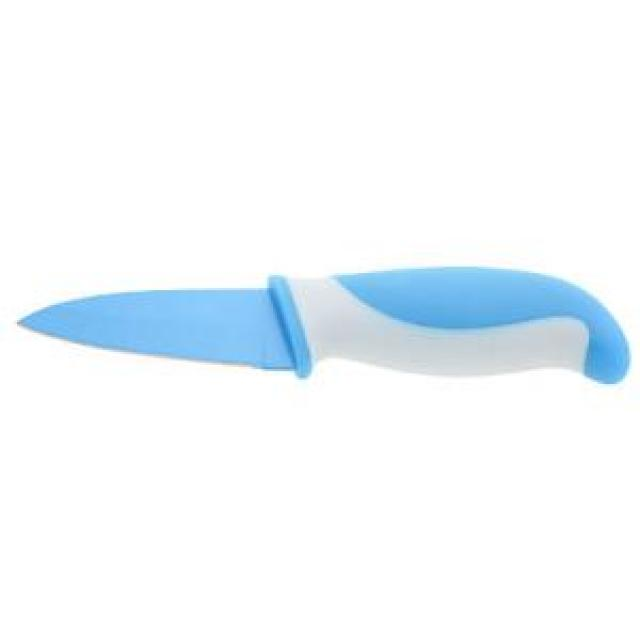knife: (13, 262, 631, 392)
